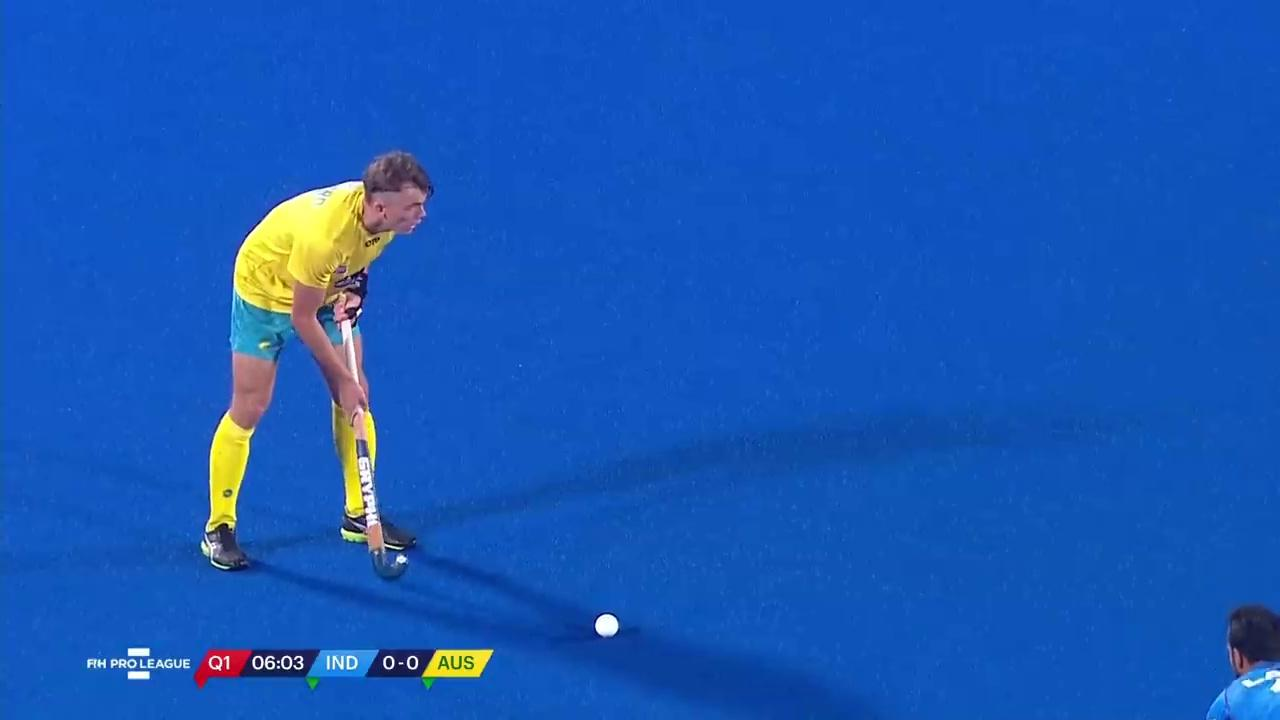ball: (579, 599, 633, 643)
